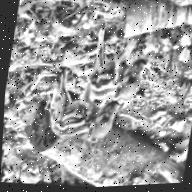boar: (43, 64, 125, 149), (84, 22, 152, 107)
